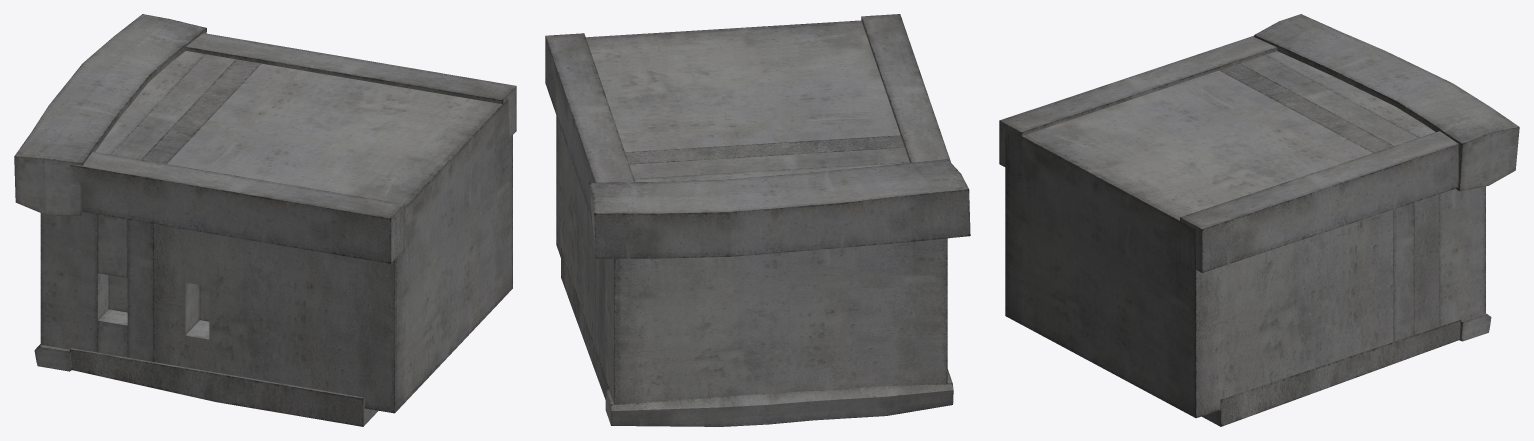
3 views of the same model, side by side, from view 1: azimuth 30°, elevation 25°; view 2: azimuth 150°, elevation 25°; view 3: azimuth 270°, elevation 25° (orthographic). The views are drawn at different scales.
Parts seen in each view (by area): view 1: Cube.055; view 2: Cube.055; view 3: Cube.055.
Boxes of the visible parts, left/top/right/bottom form: Cube.055: left=14, top=14, right=516, bottom=426; Cube.055: left=545, top=14, right=970, bottom=426; Cube.055: left=999, top=14, right=1519, bottom=426.
Bounding box in the file's own units: 1623 × 762 × 1673.
